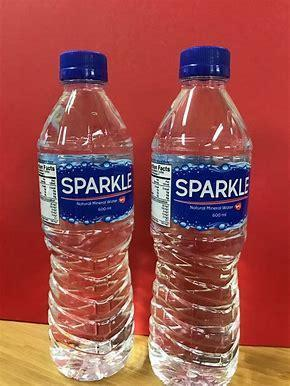bottle: (150, 42, 252, 384), (37, 45, 136, 384)
